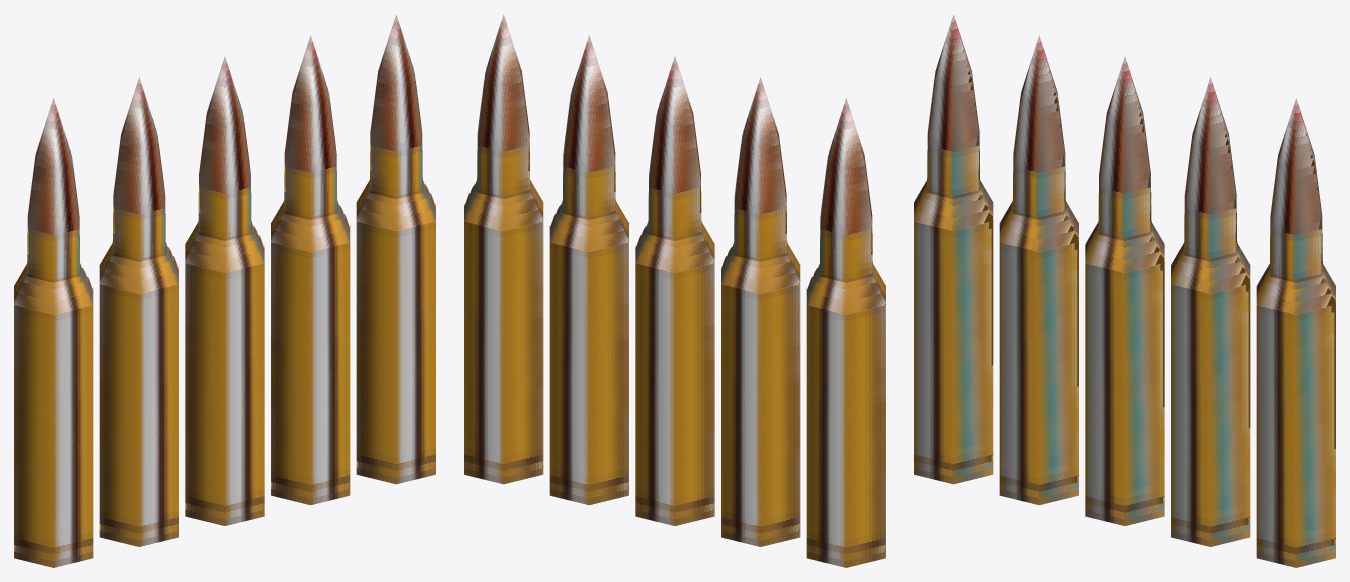
File: bullet.FBX
The picture shows the model from 3 angles, left to right: view 1: azimuth 30°, elevation 25°; view 2: azimuth 150°, elevation 25°; view 3: azimuth 330°, elevation 25°; orthographic projection.
Visible parts, largest first — view 1: bullet; view 2: bullet; view 3: bullet.
Part boxes in pixels (x1,y1,x2,y2): bullet: (14,14,435,567); bullet: (464,14,885,567); bullet: (914,14,1335,567).
Size of the model in its own units: 0.6146 by 0.628 by 0.0999.
